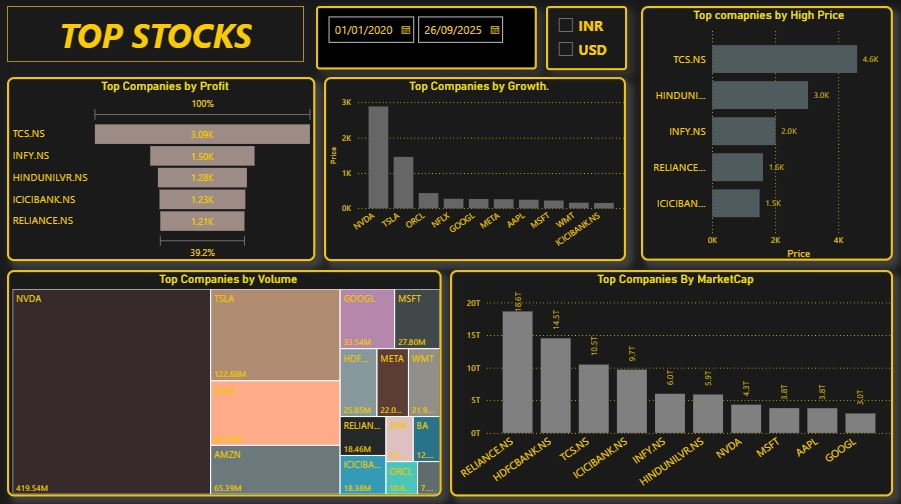

The page's visual inventory and layout, read from the dashboard file:
{"tool":"powerbi","page":{"name":"Top Stocks","canvas":[1280,720],"ordinal":3},"visuals":[{"type":"slicer","fields":{"Values":["stocks_data.Date"]},"box":[450.7,9,313.4,89.6],"z":0},{"type":"columnChart","title":"Top Companies By MarketCap  ","fields":{"Category":["stocks_data.Ticker"],"Y":["Avg(stocks_data.MarketCap)"]},"box":[640.3,382.1,628.4,320.9],"z":1000},{"type":"treemap","title":"Top Companies by Volume","fields":{"Group":["stocks_data.Ticker"],"Values":["Avg(stocks_data.Volume)"]},"box":[13.4,382.1,616.4,320.9],"z":2000},{"type":"shape","title":"STOCK MARKET","box":[13.4,9,420.9,79.1],"z":3000},{"type":"funnel","title":"Top Companies by Profit","fields":{"Category":["stocks_data.Ticker"],"Y":["stocks_data.Top Profit/Loss"]},"box":[13.4,109,437.3,261.2],"z":4000},{"type":"columnChart","title":"Top Companies by Growth.","fields":{"Category":["stocks_data.Ticker"],"Y":["stocks_data.Price Growth %"]},"box":[462.7,109,428.4,261.2],"z":5000},{"type":"barChart","title":"Top comapnies by High Price","fields":{"Category":["stocks_data.Ticker"],"Y":["Max(stocks_data.High)"]},"box":[911.9,9,356.7,361.2],"z":6000},{"type":"slicer","fields":{"Values":["stocks_data.Currency"]},"box":[776.1,9,114.9,91],"z":7000}]}

Visuals, with their boxes in screenshot pixels (x1, y1, x2, y2), scaled from the page's 1280x720 canvas onto the 901x504 screenshot:
slicer - stocks_data.Date: x1=317 y1=6 x2=538 y2=69
"Top Companies By MarketCap  " columnChart: x1=451 y1=267 x2=893 y2=492
"Top Companies by Volume" treemap: x1=9 y1=267 x2=443 y2=492
"STOCK MARKET" shape: x1=9 y1=6 x2=306 y2=62
"Top Companies by Profit" funnel: x1=9 y1=76 x2=317 y2=259
"Top Companies by Growth." columnChart: x1=326 y1=76 x2=627 y2=259
"Top comapnies by High Price" barChart: x1=642 y1=6 x2=893 y2=259
slicer - stocks_data.Currency: x1=546 y1=6 x2=627 y2=70
